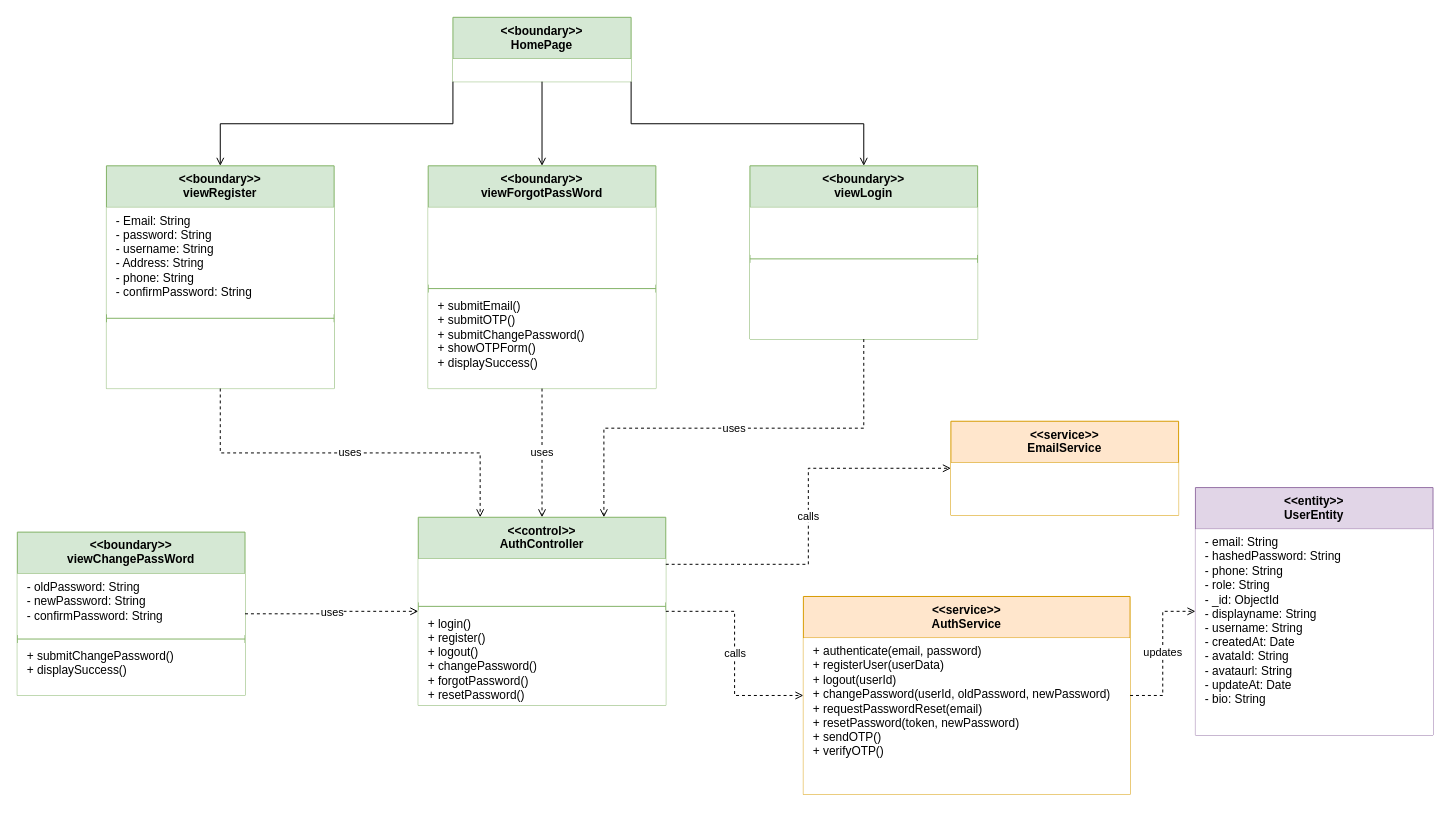
Some shapes in this 1450 by 815 pixel diagram are drawn without their labels. The shapes that lost their labels are listed below. From the top down, each one's centre as x and y in pixels, then its label:
At point 541,245: "- Email: String - otp: String - newPassword: String - confirmPassword: String".
At point 863,230: "- Email: String - Password: String".
At point 863,300: "+ submitLogin() + navigateHome() + displaySuccess()".
At point 220,355: "+ submitRegister() + displaySuccess() + SenOTP()".
At point 1064,488: "+ sendEmail()".
At point 541,580: "- authService: AuthService - emailService: EmailService".
